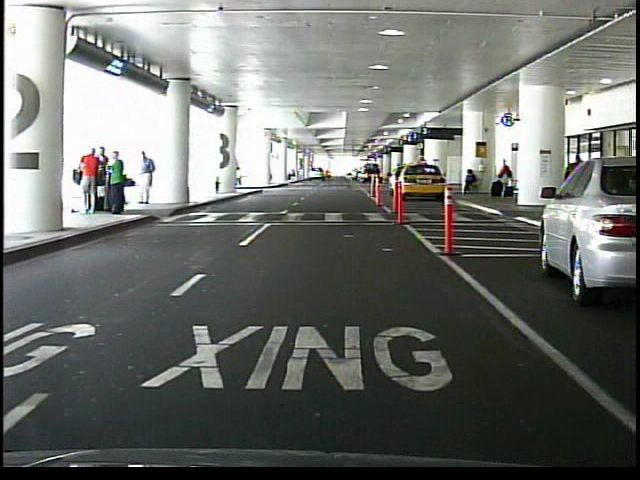person: (82, 145, 102, 215), (110, 152, 129, 218), (138, 152, 158, 209), (100, 146, 114, 210), (498, 160, 513, 201), (461, 170, 478, 197)
